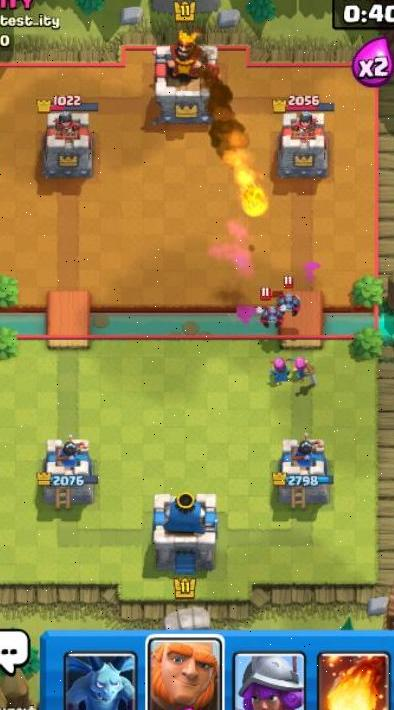enemy_fireball: (200, 72, 274, 222)
enemy_minions: (271, 281, 305, 314), (254, 297, 287, 330)
player_archers: (288, 352, 320, 385), (266, 352, 293, 385)
